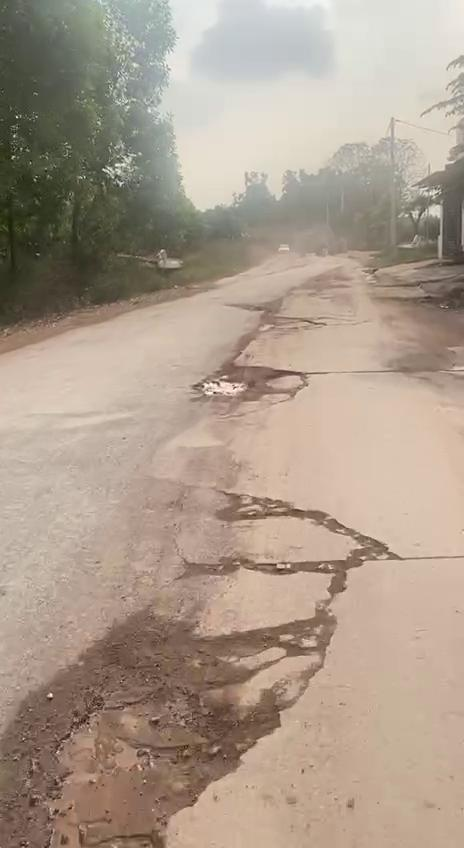pothole: (0, 613, 335, 848), (183, 492, 384, 581), (193, 359, 316, 402)
